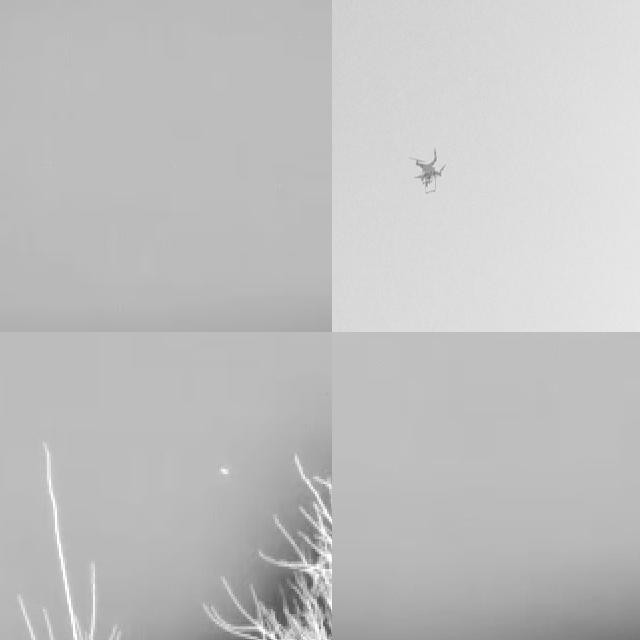0: (210, 458, 236, 490)
drone: (409, 144, 448, 197)
